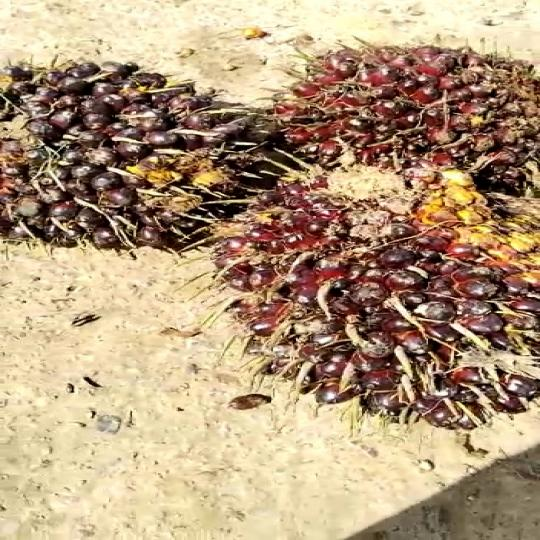kurang masak: (205, 157, 540, 424), (0, 72, 285, 242), (289, 34, 540, 185)
